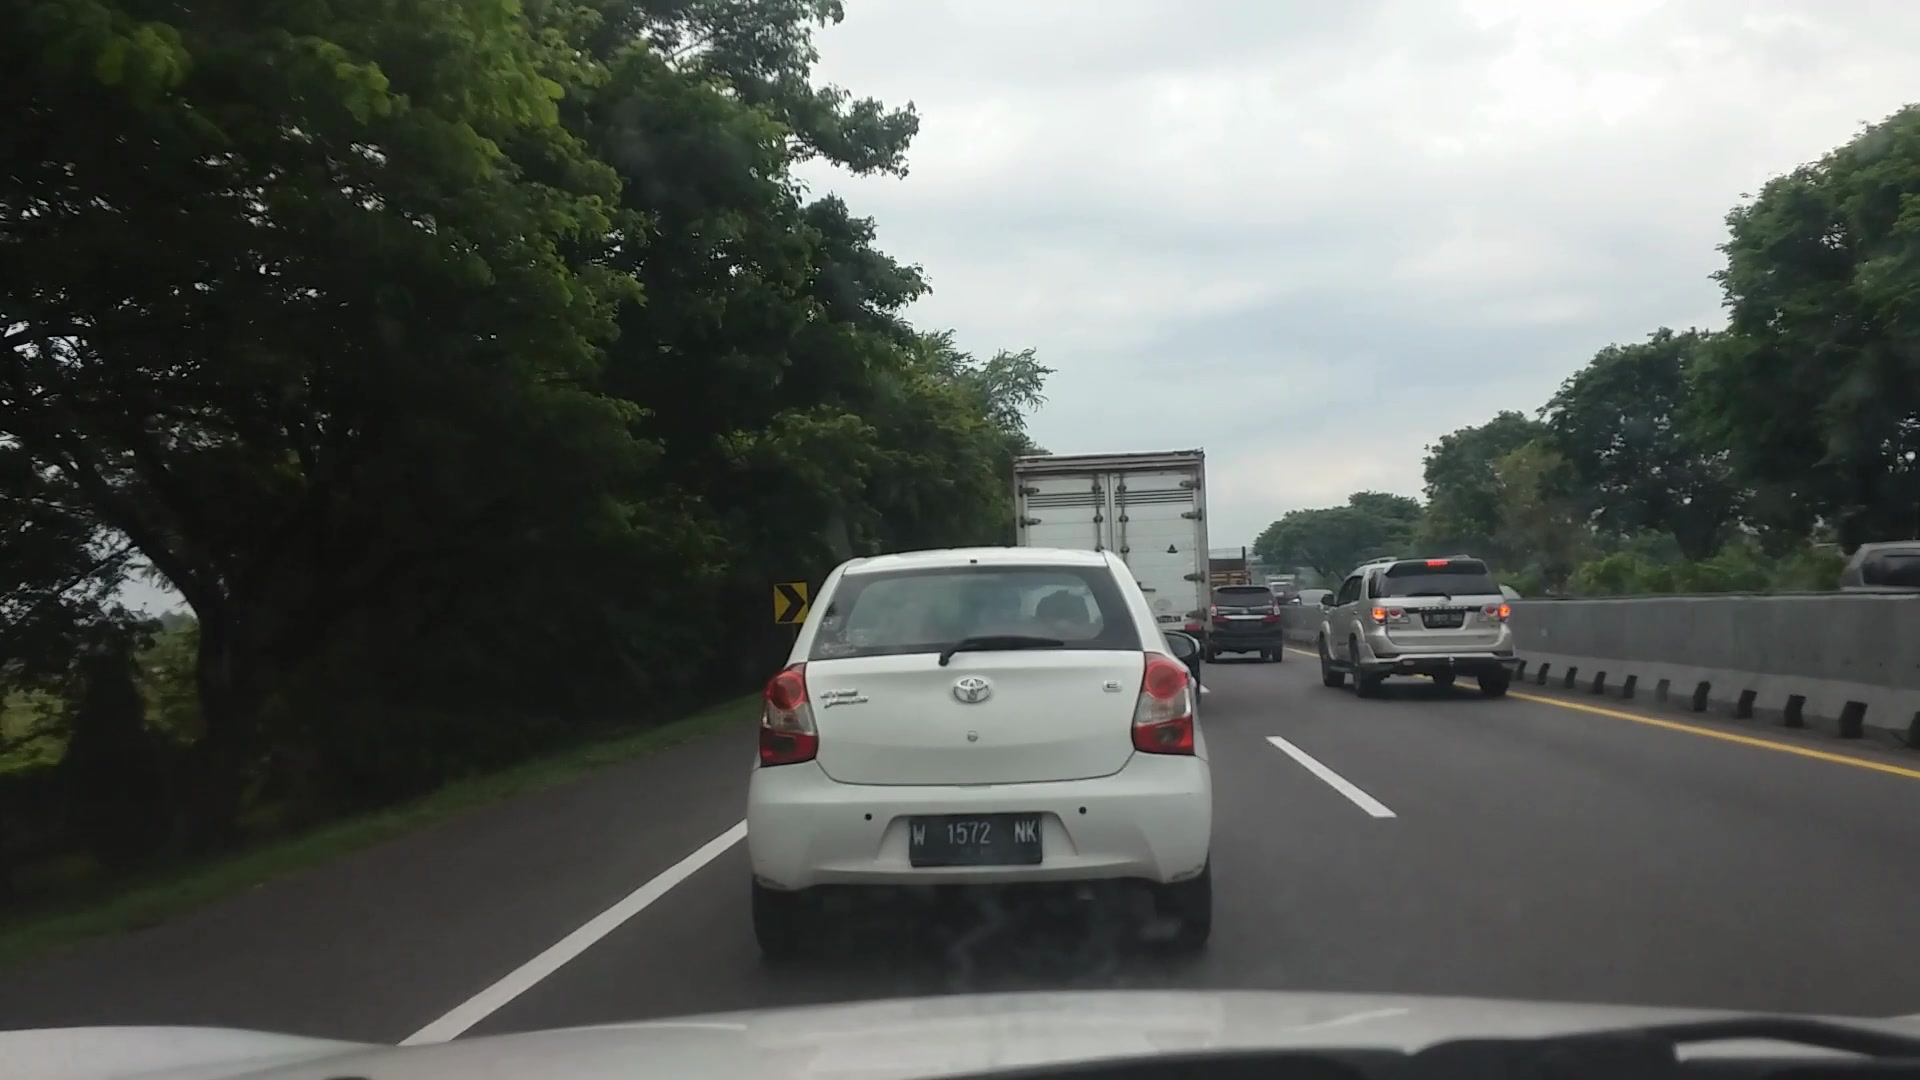plate_positive: (909, 814, 1043, 866)
